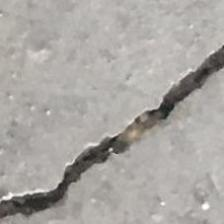Crack: (10, 29, 223, 224)
